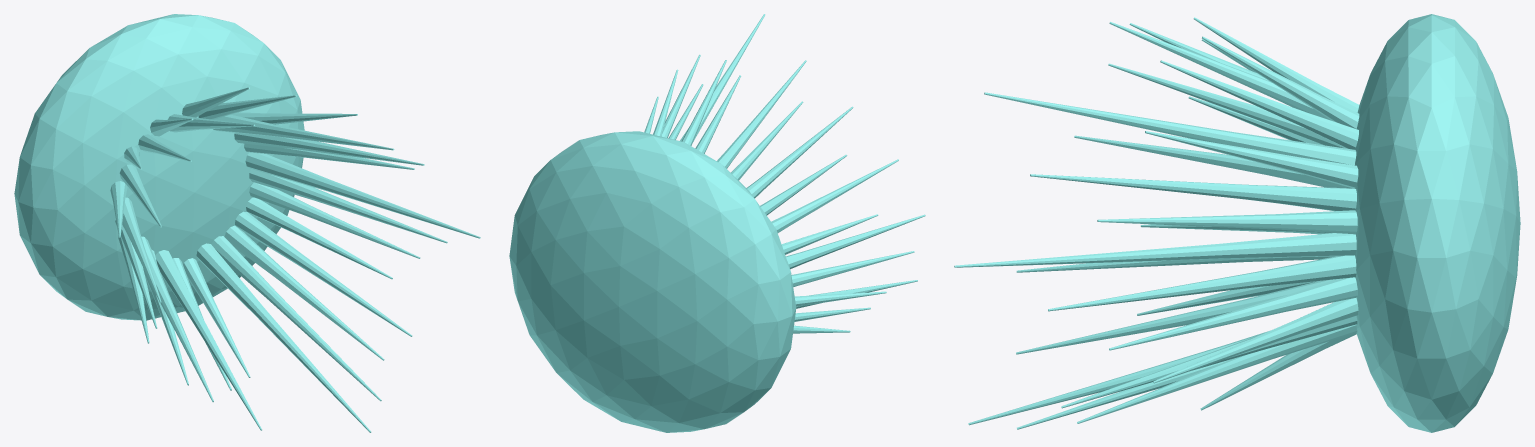
File: Aquarion_Tidepool_Anemone.glb
3 renders of one model, left to right at view 1: azimuth 30°, elevation 25°; view 2: azimuth 150°, elevation 25°; view 3: azimuth 270°, elevation 25°, orthographic. The views are drawn at different scales.
Parts seen in each view (by area): view 1: Aquarion_Tidepool_Anemone_base, Aquarion_Tidepool_Anemone_tentacle_1_1, Aquarion_Tidepool_Anemone_tentacle_22_1, Aquarion_Tidepool_Anemone_tentacle_23_1, Aquarion_Tidepool_Anemone_tentacle_25_1, Aquarion_Tidepool_Anemone_tentacle_24_1, Aquarion_Tidepool_Anemone_tentacle_19_1, Aquarion_Tidepool_Anemone_tentacle_27_1, Aquarion_Tidepool_Anemone_tentacle_0_1, Aquarion_Tidepool_Anemone_tentacle_1_2, Aquarion_Tidepool_Anemone_tentacle_22_2, Aquarion_Tidepool_Anemone_tentacle_26_1 (+13 smaller); view 2: Aquarion_Tidepool_Anemone_base, Aquarion_Tidepool_Anemone_tentacle_14_2, Aquarion_Tidepool_Anemone_tentacle_12_2, Aquarion_Tidepool_Anemone_tentacle_15_2, Aquarion_Tidepool_Anemone_tentacle_8_2, Aquarion_Tidepool_Anemone_tentacle_10_2; view 3: Aquarion_Tidepool_Anemone_base, Aquarion_Tidepool_Anemone_tentacle_1_1, Aquarion_Tidepool_Anemone_tentacle_3_1, Aquarion_Tidepool_Anemone_tentacle_0_1, Aquarion_Tidepool_Anemone_tentacle_5_1, Aquarion_Tidepool_Anemone_tentacle_1_2, Aquarion_Tidepool_Anemone_tentacle_2_1, Aquarion_Tidepool_Anemone_tentacle_27_1, Aquarion_Tidepool_Anemone_tentacle_5_2, Aquarion_Tidepool_Anemone_tentacle_4_1, Aquarion_Tidepool_Anemone_tentacle_1_0, Aquarion_Tidepool_Anemone_tentacle_3_2 (+35 smaller).
Boxes of the visible parts, x1,y1,x2,y2 form: Aquarion_Tidepool_Anemone_base: (14,14,304,320); Aquarion_Tidepool_Anemone_tentacle_1_1: (272,159,329,190); Aquarion_Tidepool_Anemone_tentacle_22_1: (215,264,263,314); Aquarion_Tidepool_Anemone_tentacle_23_1: (227,252,274,297); Aquarion_Tidepool_Anemone_tentacle_25_1: (250,222,297,260); Aquarion_Tidepool_Anemone_tentacle_24_1: (237,236,281,276); Aquarion_Tidepool_Anemone_tentacle_19_1: (163,268,197,315); Aquarion_Tidepool_Anemone_tentacle_27_1: (261,186,306,213); Aquarion_Tidepool_Anemone_tentacle_0_1: (267,174,317,200); Aquarion_Tidepool_Anemone_tentacle_1_2: (324,179,379,206); Aquarion_Tidepool_Anemone_tentacle_22_2: (254,306,298,354); Aquarion_Tidepool_Anemone_tentacle_26_1: (252,200,292,230); Aquarion_Tidepool_Anemone_base: (509,131,796,432); Aquarion_Tidepool_Anemone_tentacle_14_2: (801,240,845,262); Aquarion_Tidepool_Anemone_tentacle_12_2: (786,196,827,224); Aquarion_Tidepool_Anemone_tentacle_15_2: (796,266,838,285); Aquarion_Tidepool_Anemone_tentacle_8_2: (725,121,757,159); Aquarion_Tidepool_Anemone_tentacle_10_2: (758,155,794,188); Aquarion_Tidepool_Anemone_base: (1345,14,1520,432); Aquarion_Tidepool_Anemone_tentacle_1_1: (1221,235,1312,258); Aquarion_Tidepool_Anemone_tentacle_3_1: (1251,185,1327,208); Aquarion_Tidepool_Anemone_tentacle_0_1: (1257,258,1331,286); Aquarion_Tidepool_Anemone_tentacle_5_1: (1233,132,1318,159); Aquarion_Tidepool_Anemone_tentacle_1_2: (1132,243,1222,261); Aquarion_Tidepool_Anemone_tentacle_2_1: (1278,211,1342,233); Aquarion_Tidepool_Anemone_tentacle_27_1: (1281,279,1344,311); Aquarion_Tidepool_Anemone_tentacle_5_2: (1149,119,1234,145); Aquarion_Tidepool_Anemone_tentacle_4_1: (1295,157,1352,185); Aquarion_Tidepool_Anemone_tentacle_1_0: (1310,233,1356,256); Aquarion_Tidepool_Anemone_tentacle_3_2: (1178,181,1253,199).
Size of the model in its own units: 0.76 by 0.76 by 1.02.
